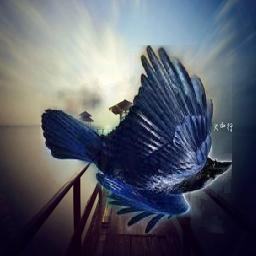Crow: (40, 46, 232, 235)
